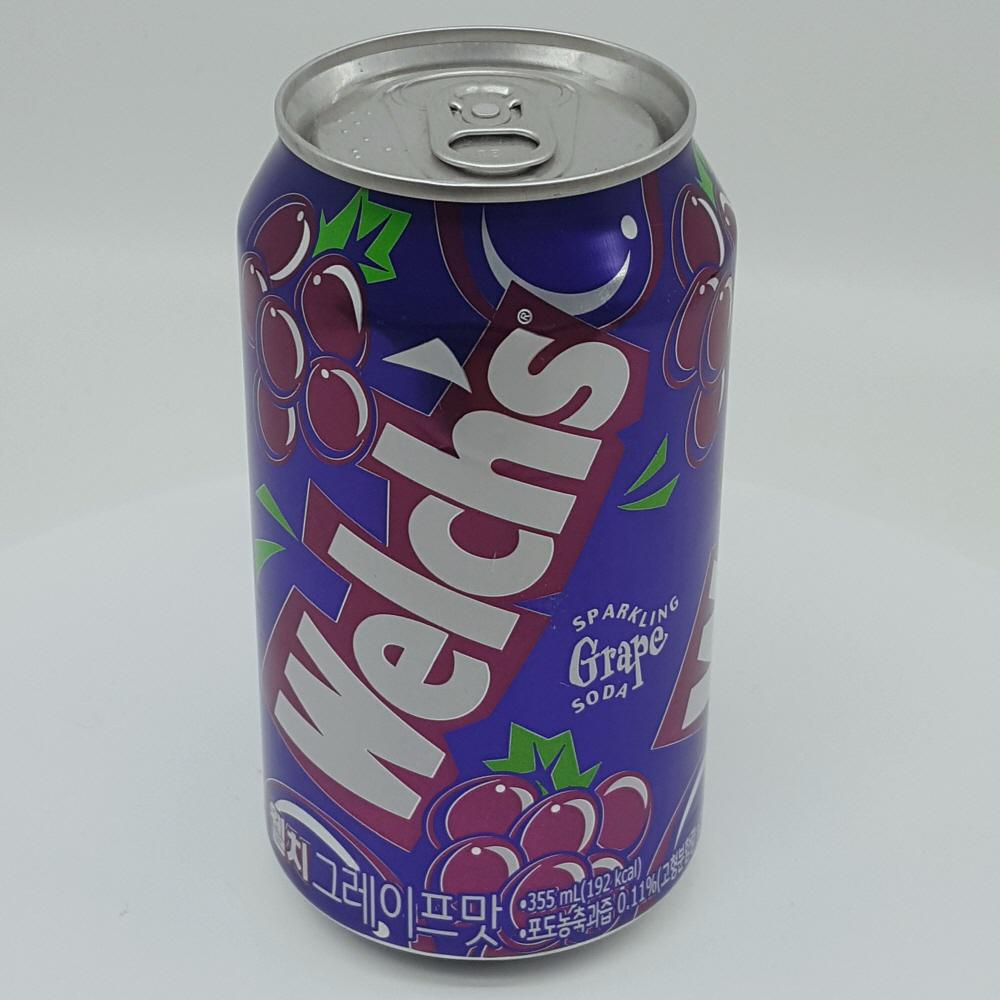welchs_grape: (198, 8, 748, 999)
